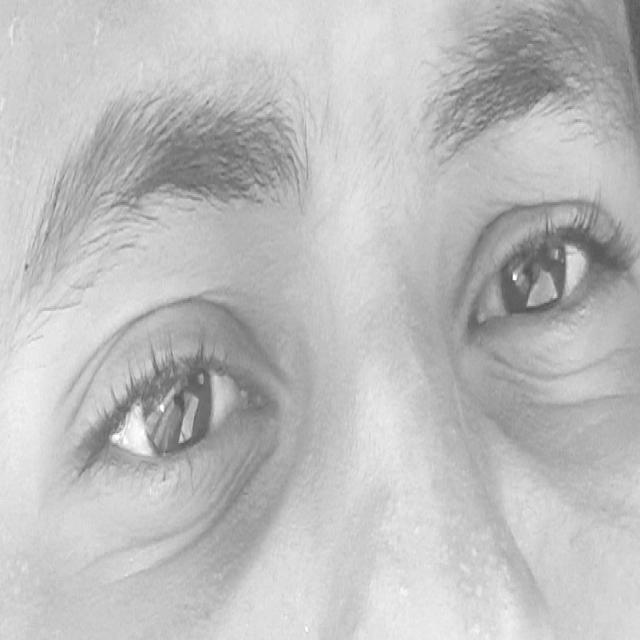real: (42, 159, 634, 520)
